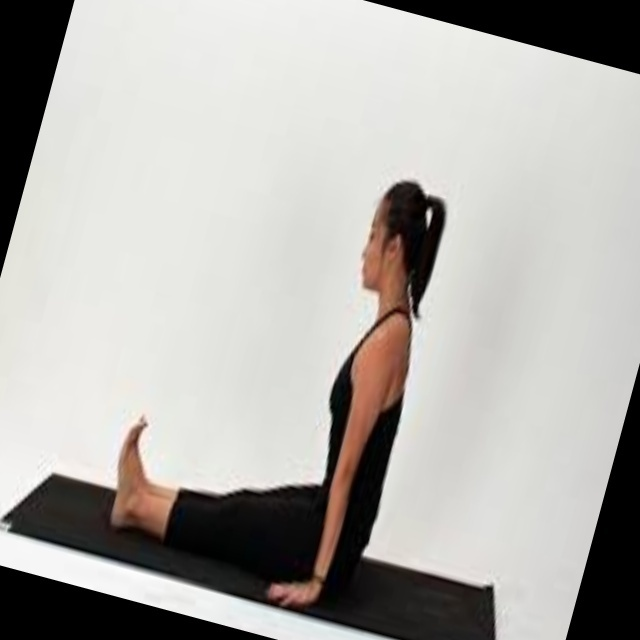Staff_Pose: (109, 178, 450, 609)
